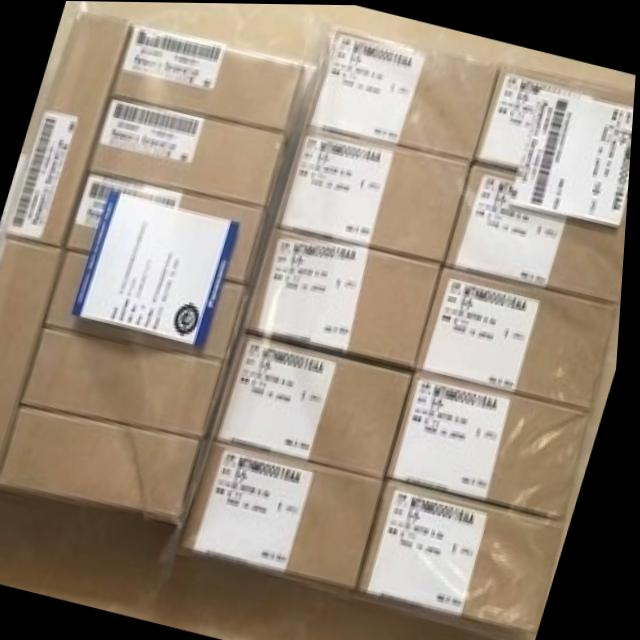box: (366, 476, 569, 630), (391, 368, 595, 517), (188, 439, 390, 588), (7, 8, 131, 247), (419, 265, 622, 409), (247, 227, 446, 368), (221, 336, 417, 478), (275, 122, 472, 262), (447, 160, 630, 304), (308, 26, 499, 159), (91, 95, 299, 212), (67, 170, 276, 284), (112, 22, 318, 136), (25, 326, 232, 439), (1, 404, 207, 517), (48, 249, 253, 360), (475, 63, 636, 167), (0, 239, 66, 486)
